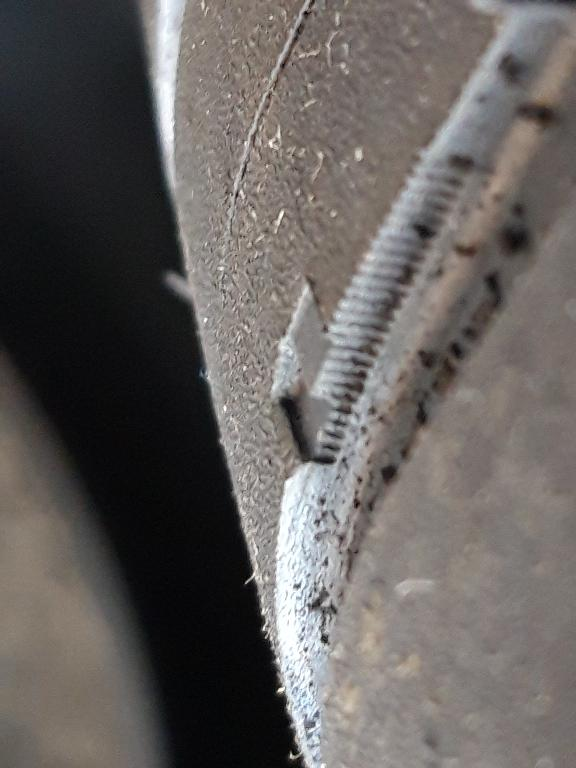temoin:25: (260, 268, 380, 479)
